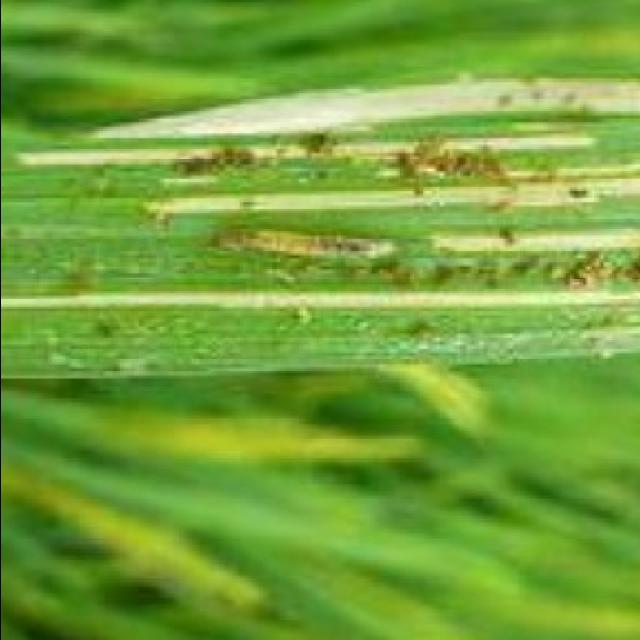rice leaf roller: (180, 140, 584, 193), (211, 231, 402, 256)
